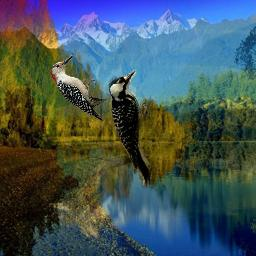Woodpecker: (103, 67, 162, 196), (50, 55, 107, 121)
